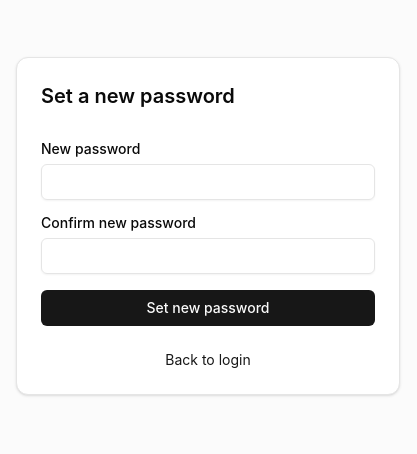
Test case: PasswordResetConfirmPage › shows an expired/invalid link error instead of redirecting when the backend returns 404
The width and height of the screenshot is (417, 454).
Type "NewPassword!1" into the password field labelled "New password" at coordinates (208, 182), box [41,164,375,200]
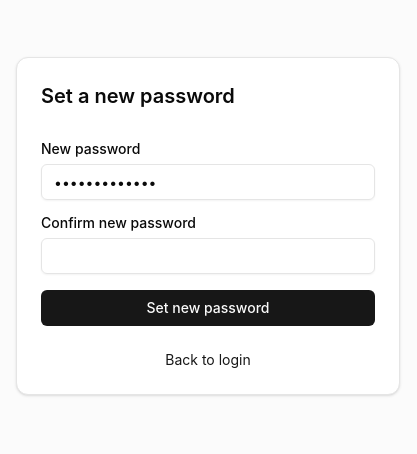
Type "NewPassword!1" into the password field labelled "Confirm new password" at coordinates (208, 256), box [41,238,375,274]
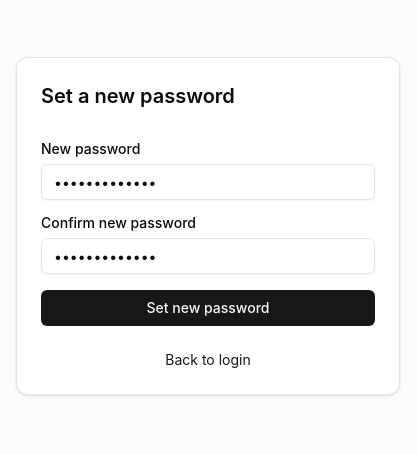
Click the button "Set new password" at coordinates (208, 308), box [41,290,375,326]
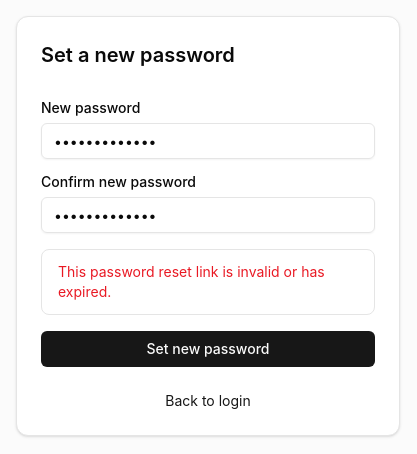
Expected: the text "This password reset link is invalid or has expired." is shown, [58,262,358,302]
